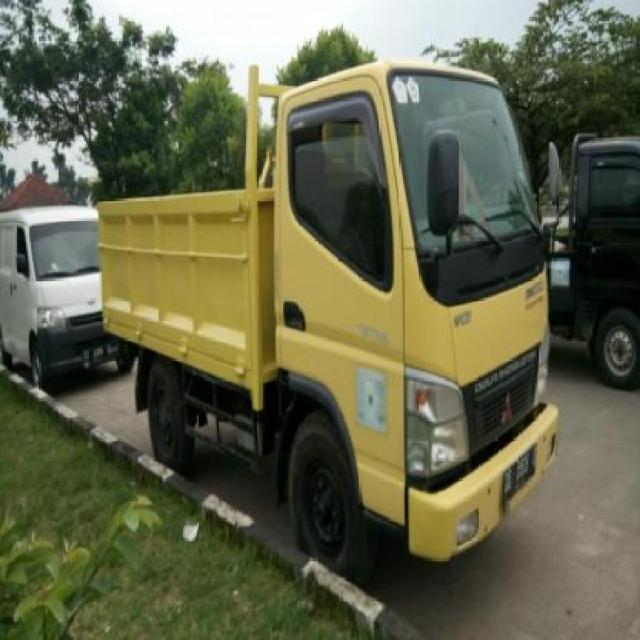truck: (102, 58, 586, 564)
